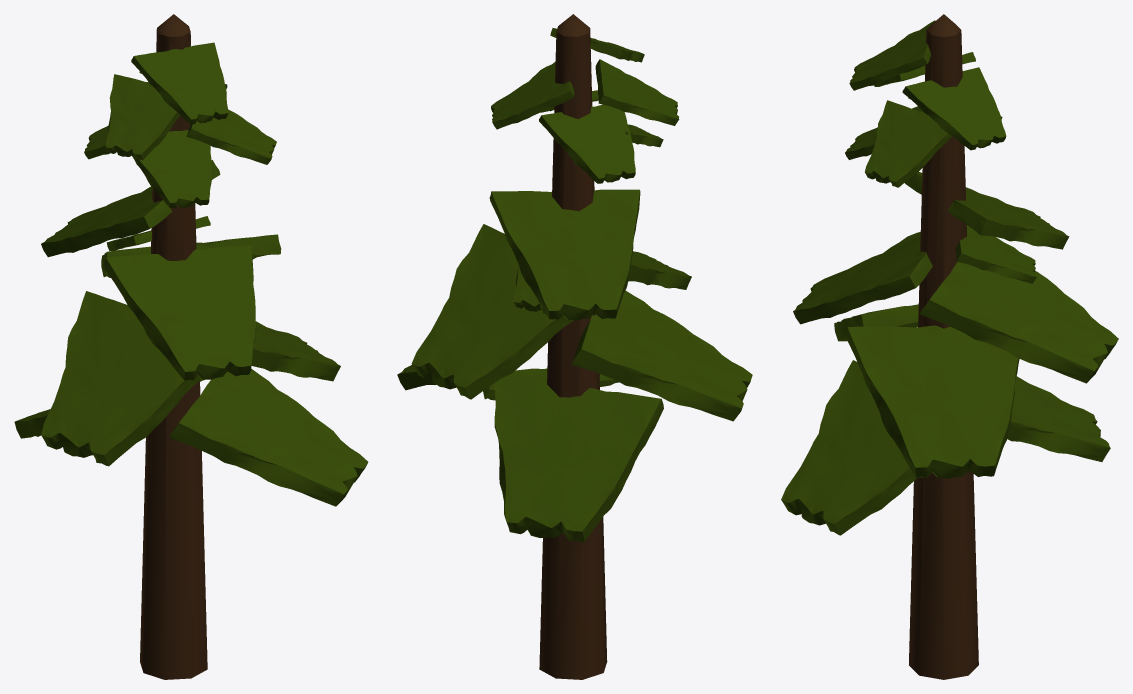
The model's file is Tree_Pine.FBX.
3 renders of one model, left to right at view 1: azimuth 30°, elevation 25°; view 2: azimuth 150°, elevation 25°; view 3: azimuth 270°, elevation 25°, orthographic.
Parts seen in each view (by area): view 1: Tree_Pine; view 2: Tree_Pine; view 3: Tree_Pine.
Part boxes in pixels (bbox=[...]): Tree_Pine: bbox=[14, 14, 368, 679]; Tree_Pine: bbox=[397, 14, 752, 679]; Tree_Pine: bbox=[781, 14, 1118, 679].
Bounding box in the file's own units: 200 × 193 × 410.
